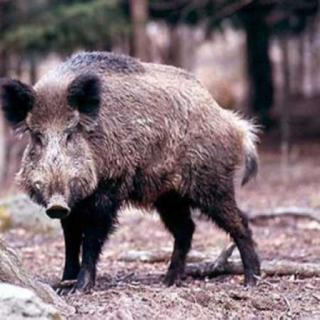Pig: (0, 36, 281, 284)
